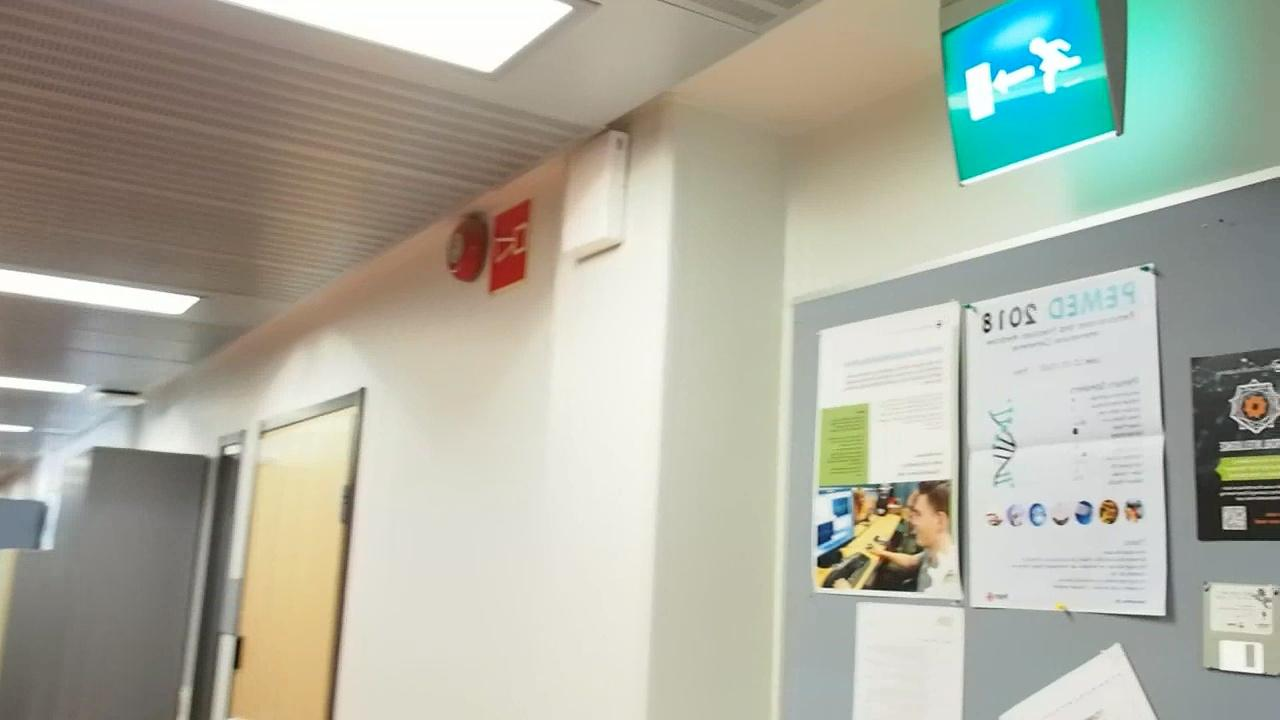exit: (947, 2, 1126, 169)
